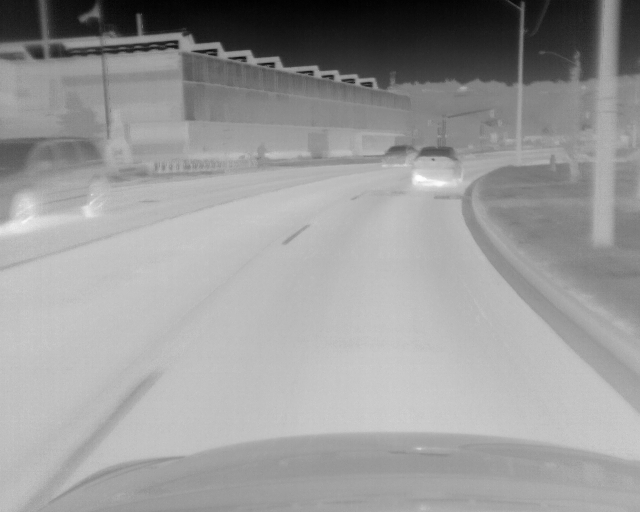car: (1, 138, 109, 230), (412, 148, 460, 185), (382, 144, 416, 168)
